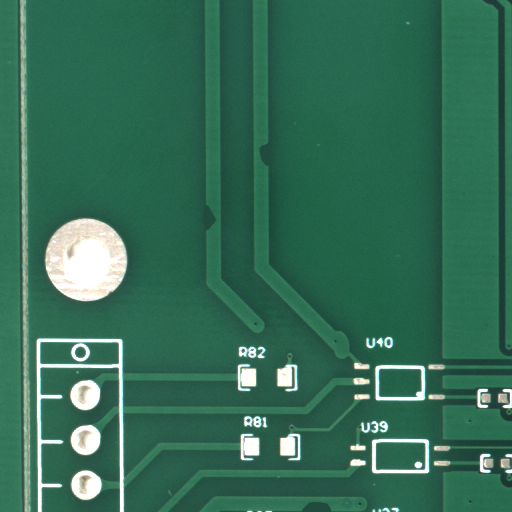Mouse_bite: (209, 215, 232, 261), (264, 154, 281, 186), (317, 505, 353, 512)
